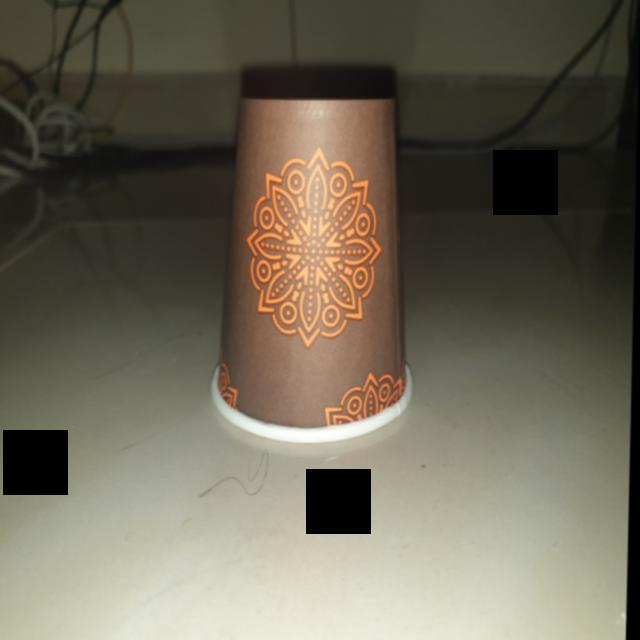cups: (211, 88, 423, 449)
